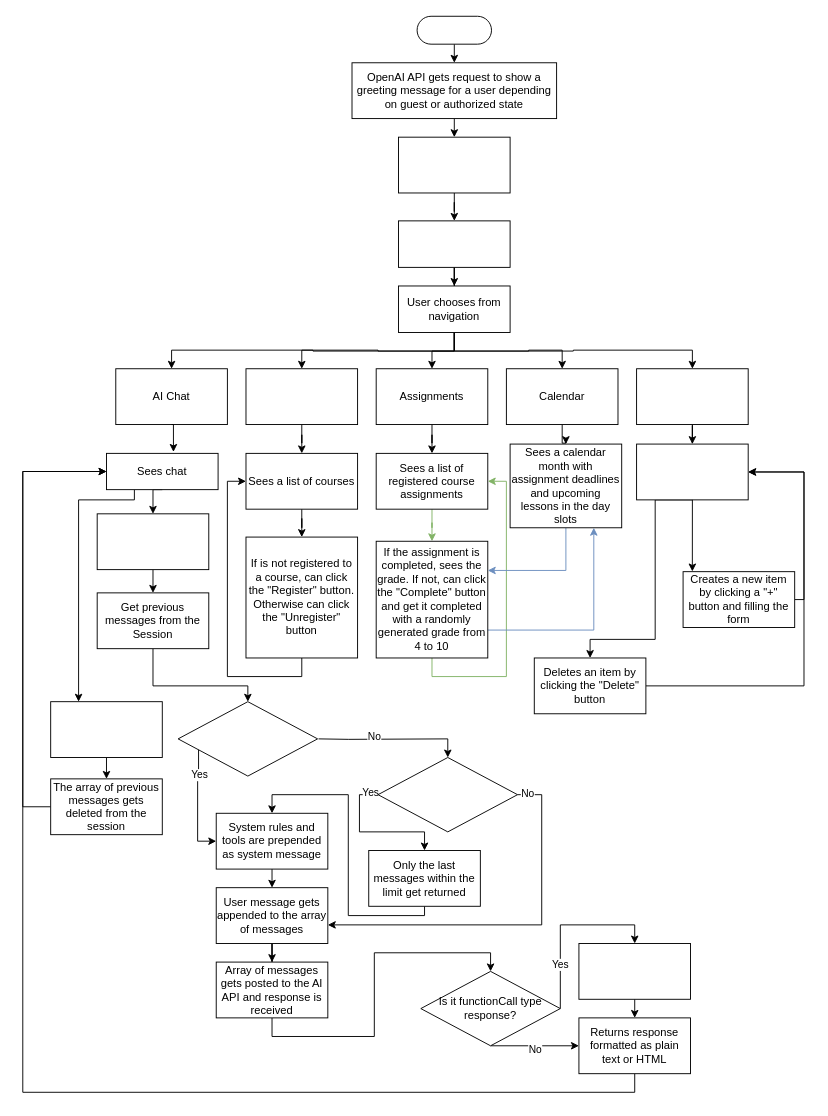
The diagram is 828 pixels wide and 1116 high, and some of its shapes have lost their labels. Here are the shapes that lost their labels. From the top down, the box of each, then its label:
(416, 15, 492, 44): Start
(398, 136, 510, 193): Welcome view with general project info and AI greeting
(398, 220, 510, 267): User logs in
(245, 368, 358, 425): Courses
(636, 368, 748, 425): Personal Schedule
(636, 443, 748, 500): Sees a week schedule divided by hour with personal items
(96, 513, 209, 570): Writes a message and clicks "Send"
(50, 701, 162, 757): Clicks "Reset" button
(177, 701, 318, 776): Is this the first user message?
(377, 757, 518, 832): Is the message limit exceeded?
(578, 943, 691, 999): Function gets called and its result gets posted to the API as the system message
